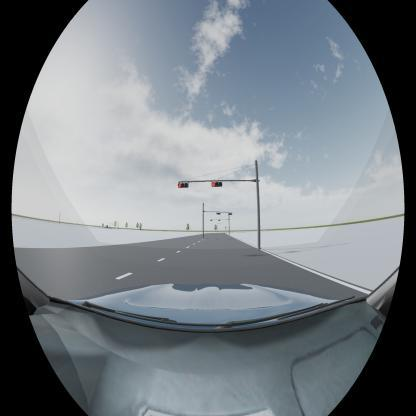Red Light: (178, 182, 189, 189), (212, 182, 223, 187)
